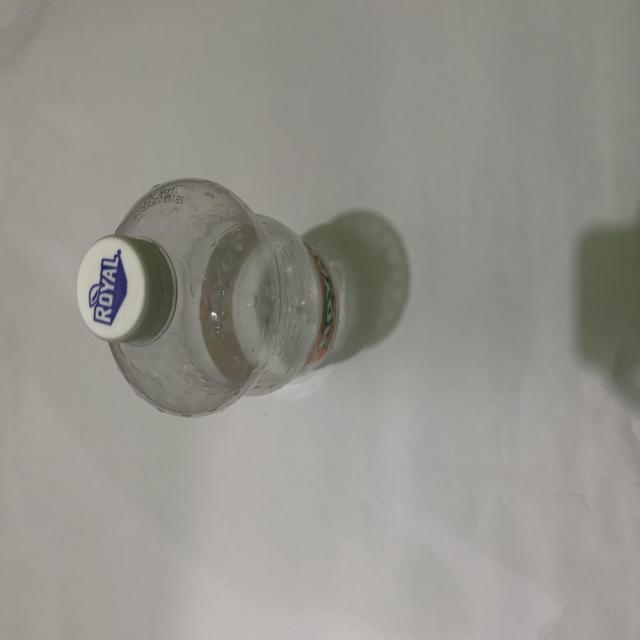bottle: (64, 178, 384, 434)
